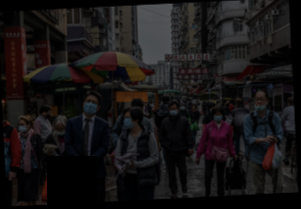mask_weared_incorrect: (253, 94, 267, 110)
with_mask: (83, 97, 98, 115), (122, 113, 134, 130), (18, 120, 28, 133), (54, 125, 65, 136), (168, 106, 178, 118), (212, 112, 224, 122), (45, 110, 51, 119), (179, 104, 185, 111), (225, 101, 230, 106)
without_mask: (191, 104, 196, 110)
